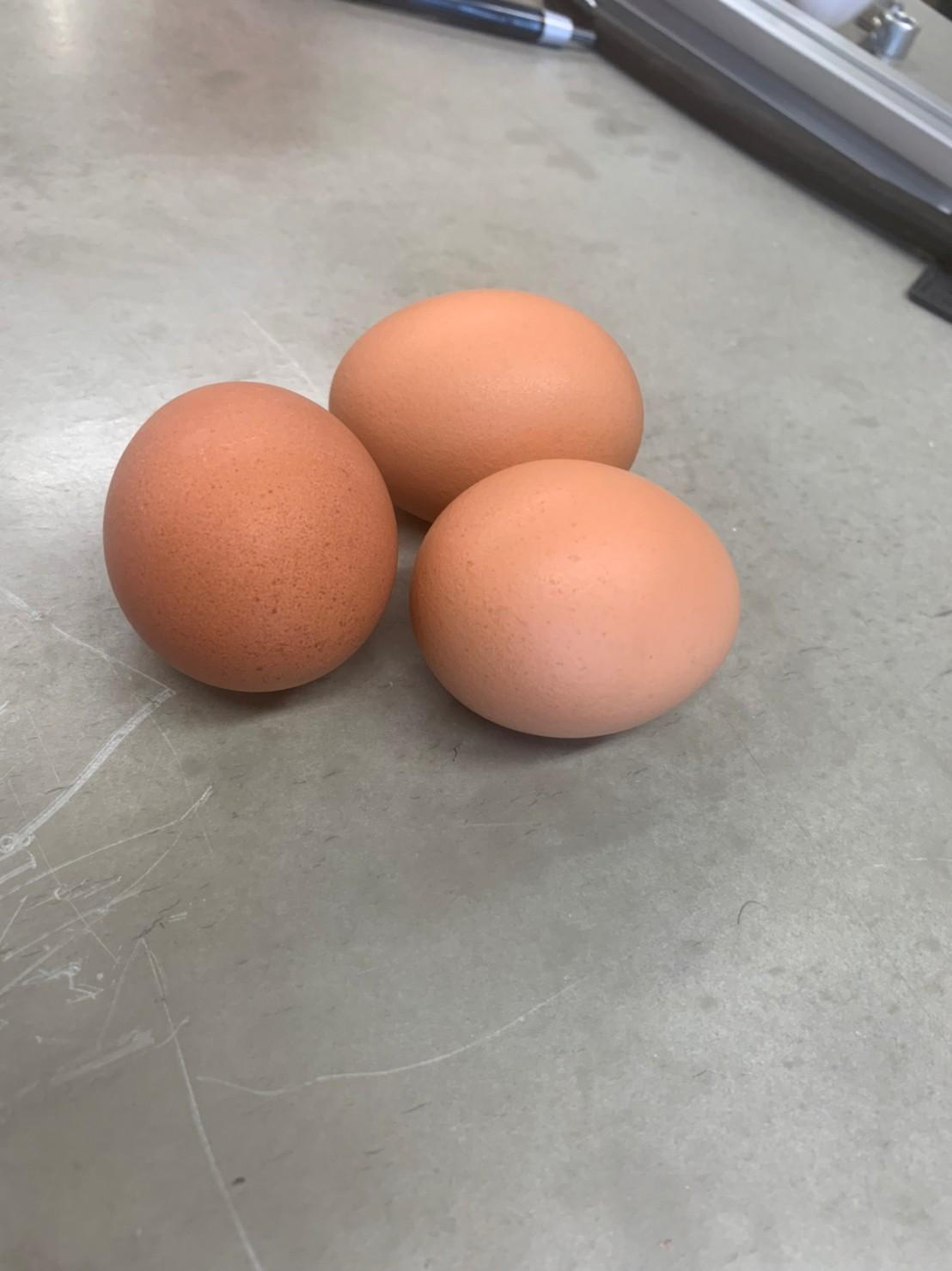egg: (404, 460, 743, 746), (95, 381, 398, 696), (330, 276, 649, 507)
